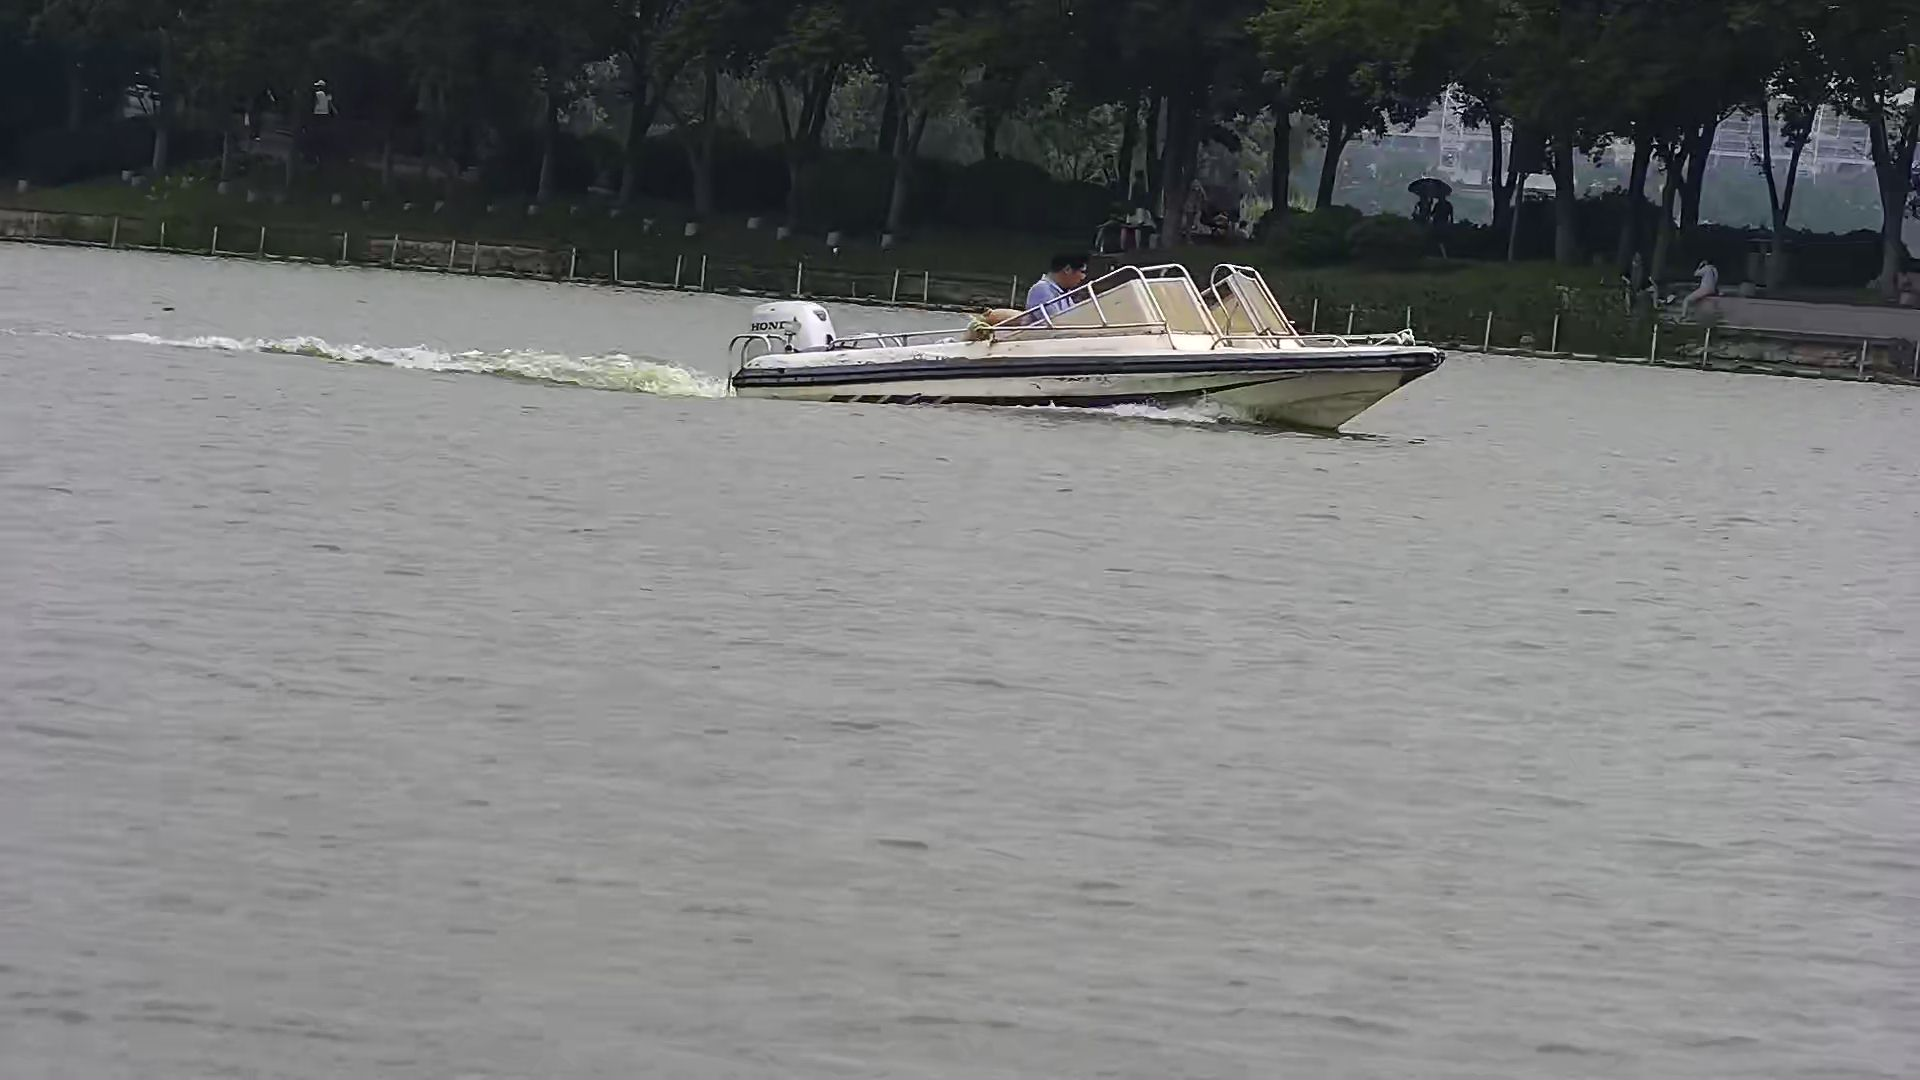boat: (725, 247, 1452, 436)
